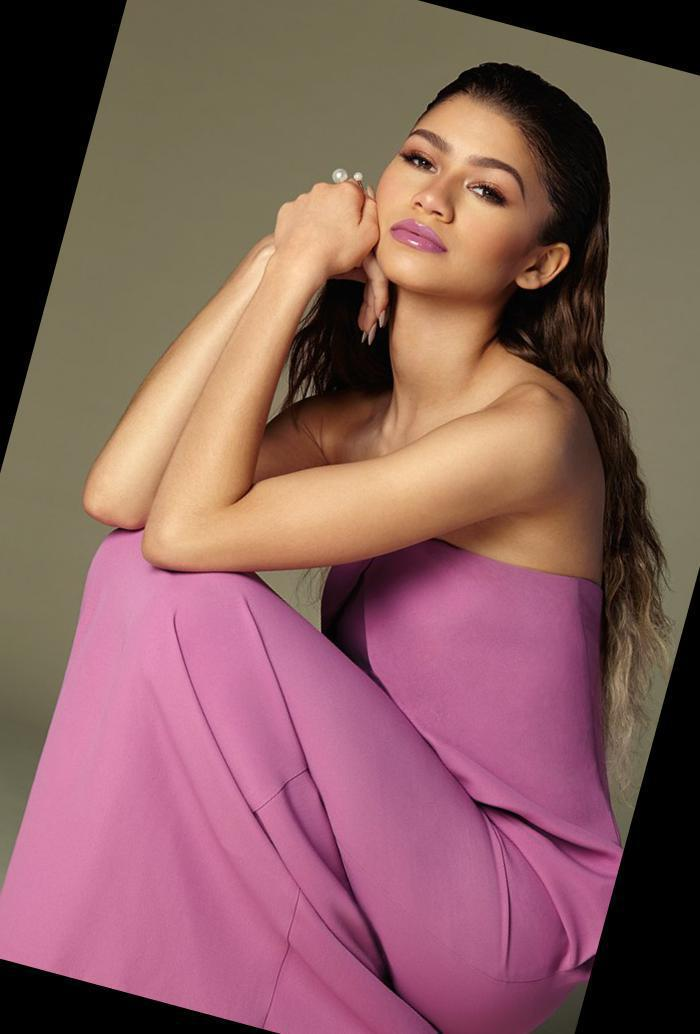Sober: (363, 76, 548, 302)
